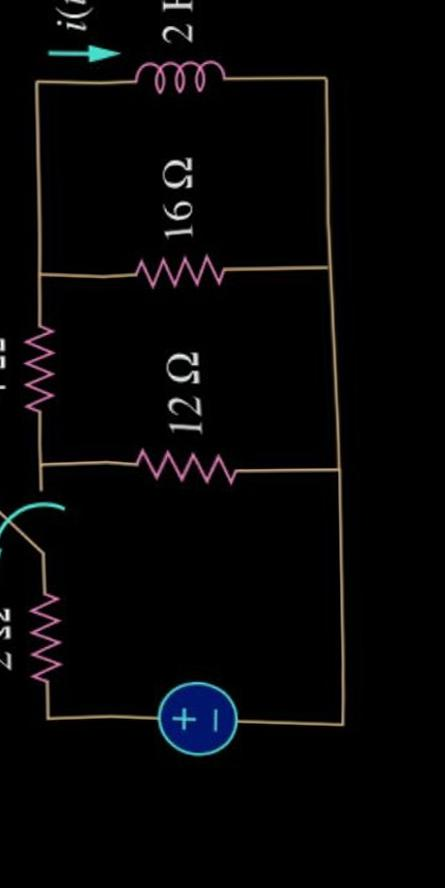Battery: (128, 653, 270, 778)
